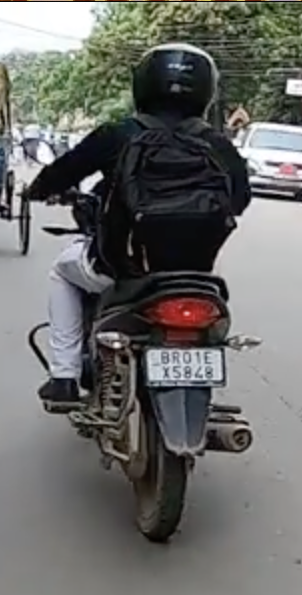motor: (10, 179, 259, 538)
number: (147, 346, 225, 391)
with helmet: (133, 43, 216, 119)
